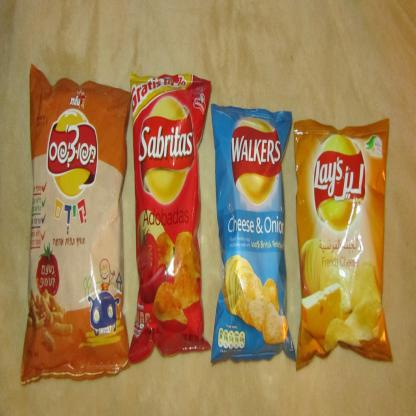potatochip: (18, 60, 134, 390), (289, 116, 397, 376), (124, 66, 213, 371), (207, 97, 298, 371)
